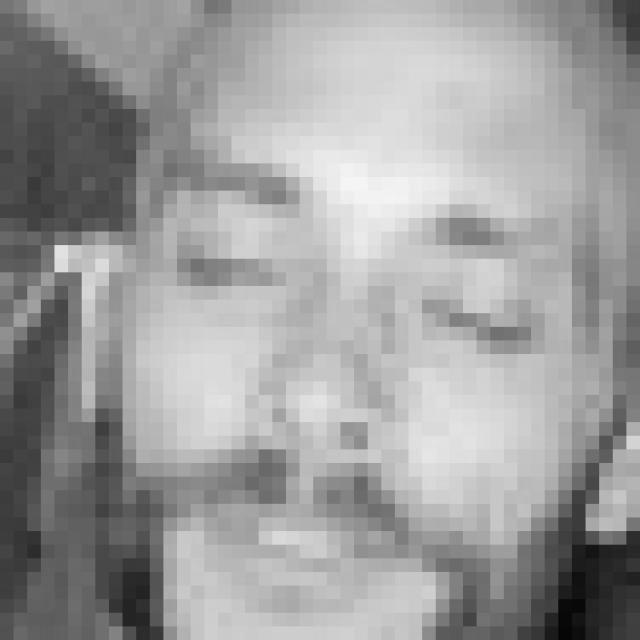real: (150, 0, 616, 633), (186, 174, 556, 384)
